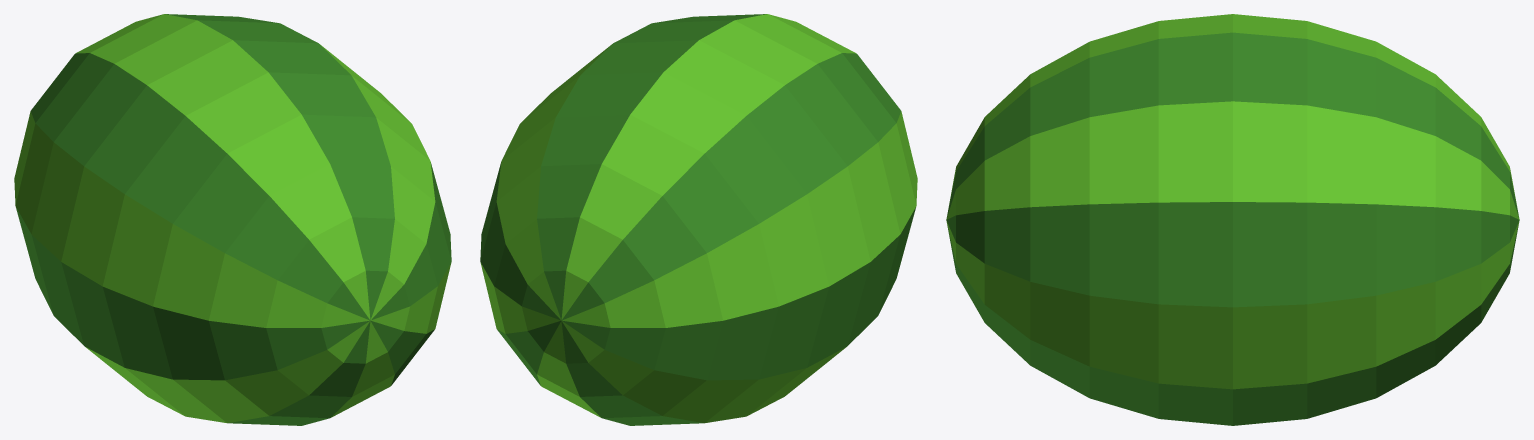
The model's file is Watermelon.fbx.
The picture shows the model from 3 angles, left to right: view 1: azimuth 30°, elevation 25°; view 2: azimuth 150°, elevation 25°; view 3: azimuth 270°, elevation 25°; orthographic projection. The views are drawn at different scales.
Visible parts, largest first — view 1: polySurface339; view 2: polySurface339; view 3: polySurface339.
Boxes of the visible parts, left/top/right/bottom form: polySurface339: left=14, top=14, right=451, bottom=425; polySurface339: left=480, top=14, right=917, bottom=425; polySurface339: left=946, top=14, right=1519, bottom=425.
Size of the model in its own units: 476 by 476 by 660.
